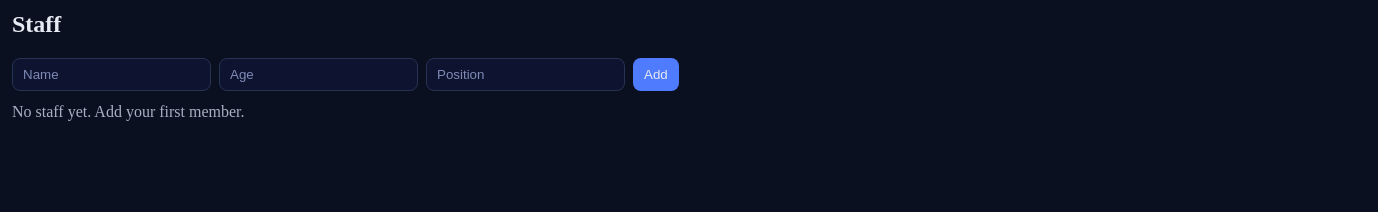
Test case: StaffManagement › loads and displays staff, can create and delete
In the field with placeholder "Name": x=112, y=74 [12, 58, 211, 91], type "Alice"
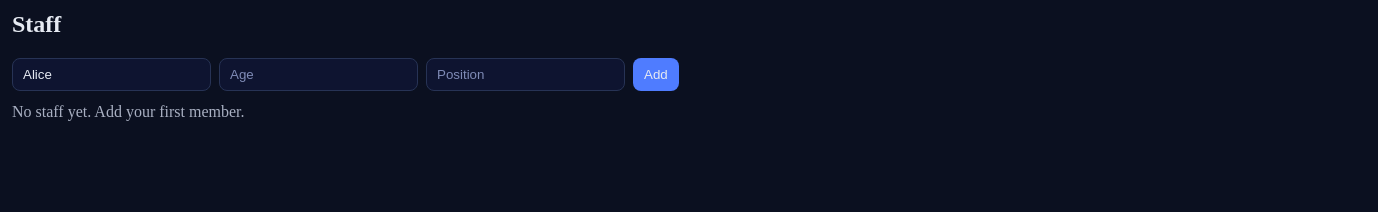
In the number field with placeholder "Age": x=318, y=74 [219, 58, 418, 91], type "30"
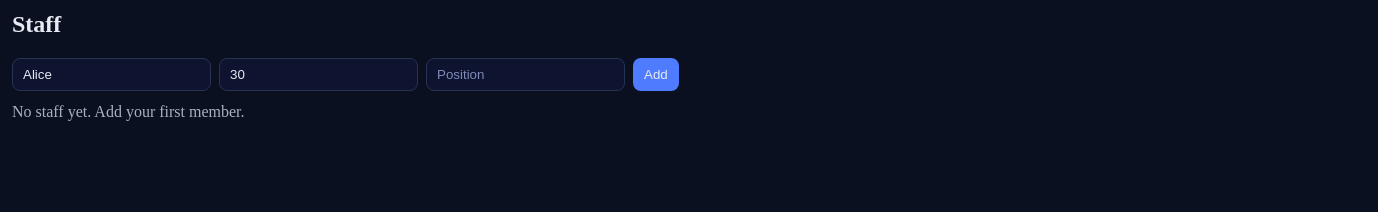
In the field with placeholder "Position": x=526, y=74 [426, 58, 625, 91], type "Nurse"
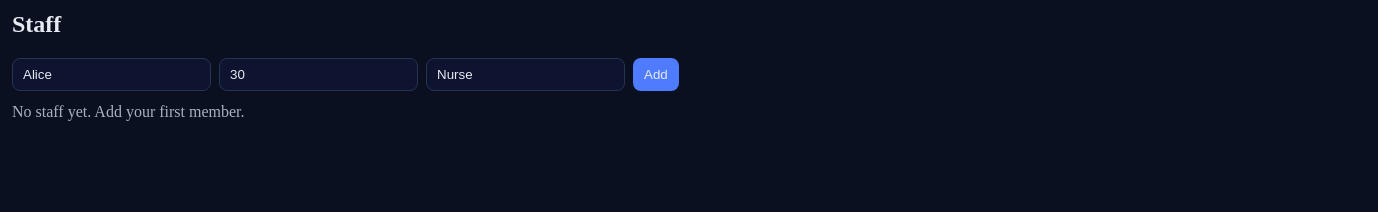
Submit the form, box [12, 58, 679, 91]
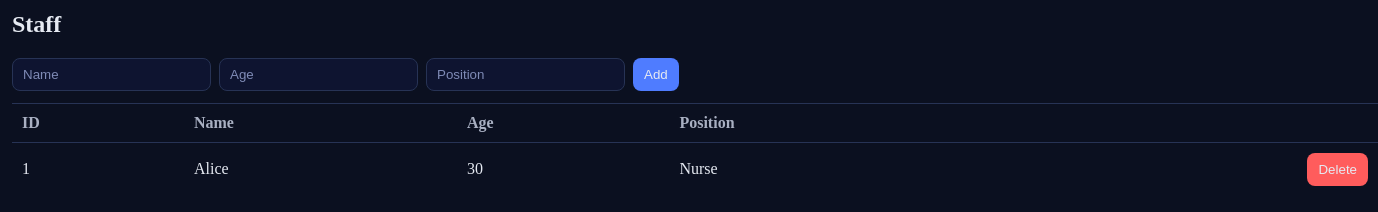
Expected: the text "Alice" is shown, [184, 142, 457, 196]
Note: delete first item
Click the button "Delete": x=1338, y=169 [1308, 153, 1368, 186]
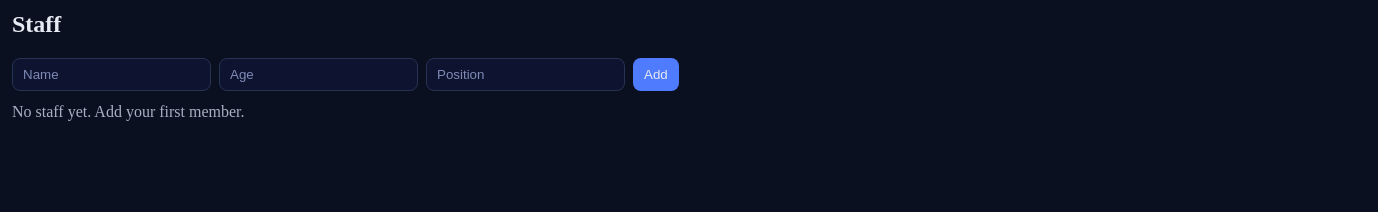
Expected: the text "Alice" is gone
